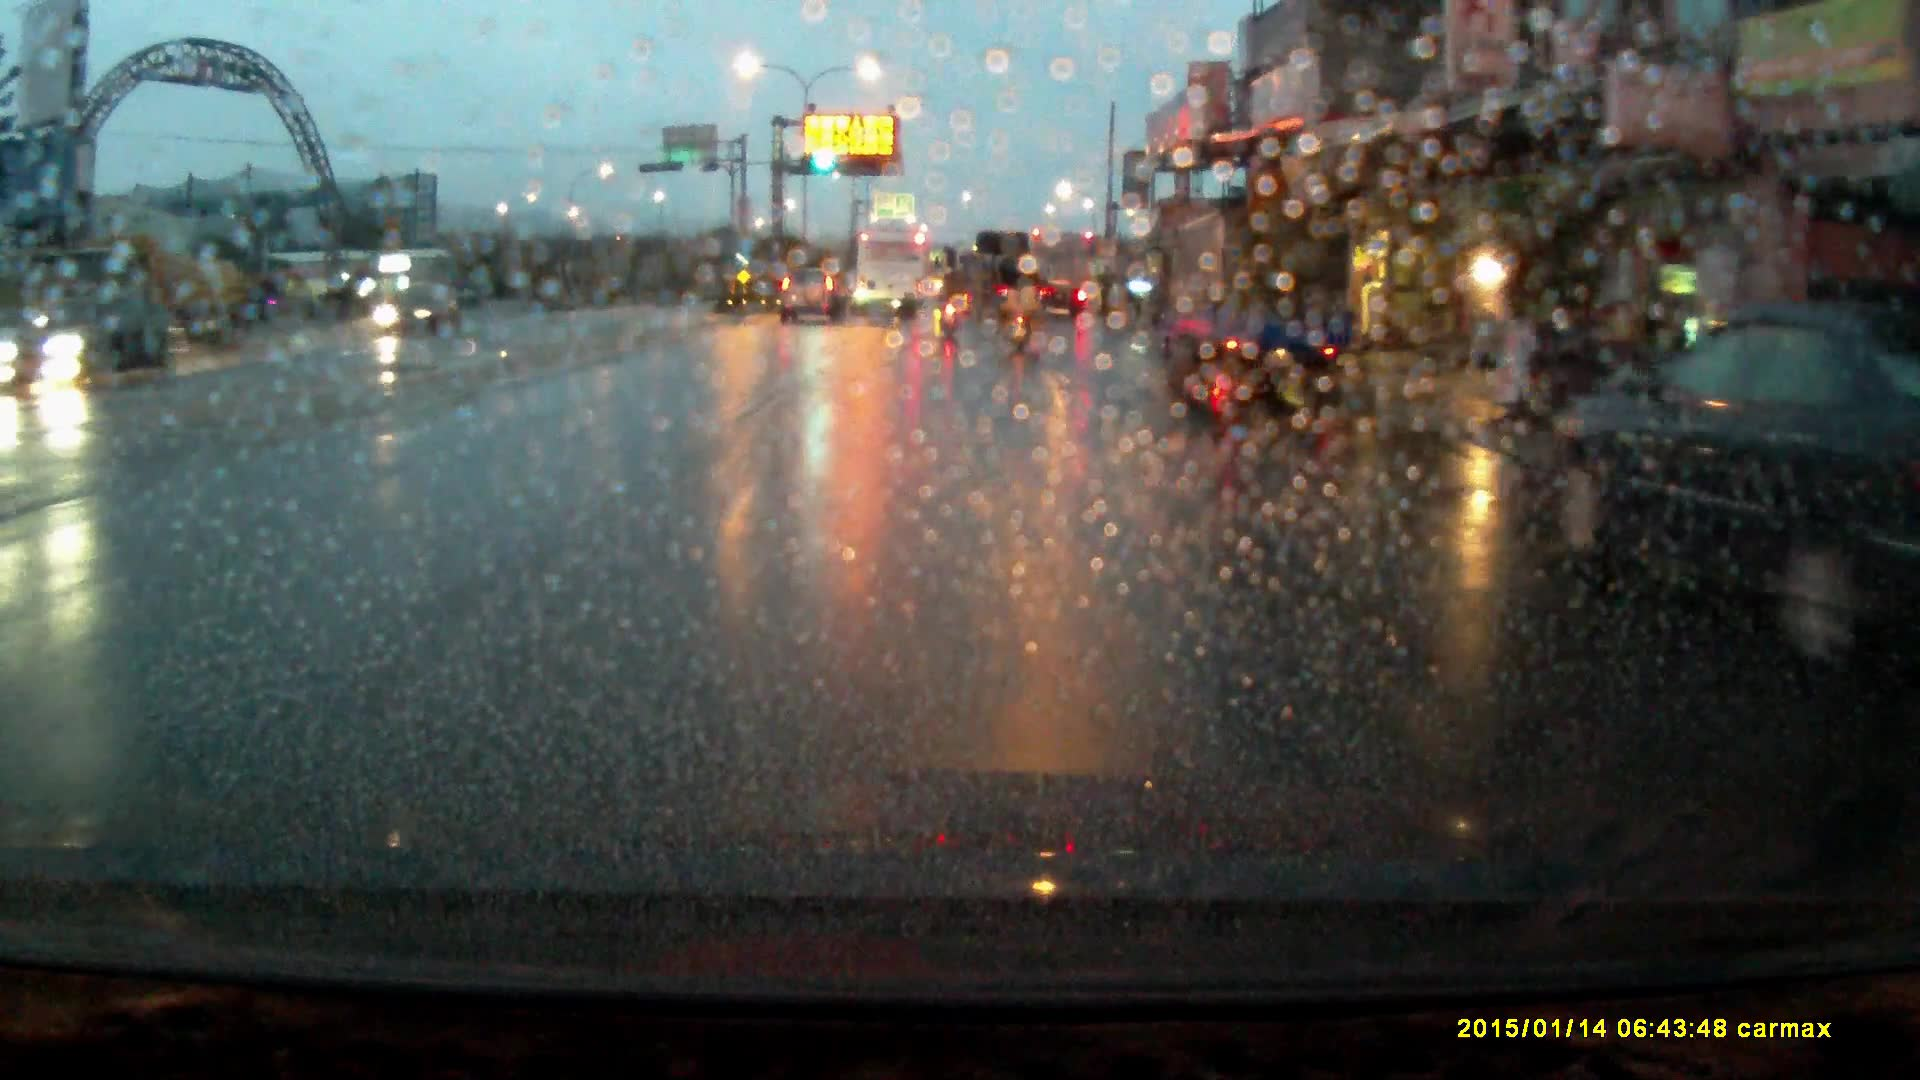rider: (1001, 276, 1040, 360), (932, 269, 965, 333)
vehicle: (1539, 307, 1920, 689), (1155, 216, 1359, 410), (34, 237, 255, 353), (18, 300, 171, 395), (972, 230, 1044, 323), (854, 232, 928, 319), (376, 281, 459, 341), (780, 267, 846, 327)
